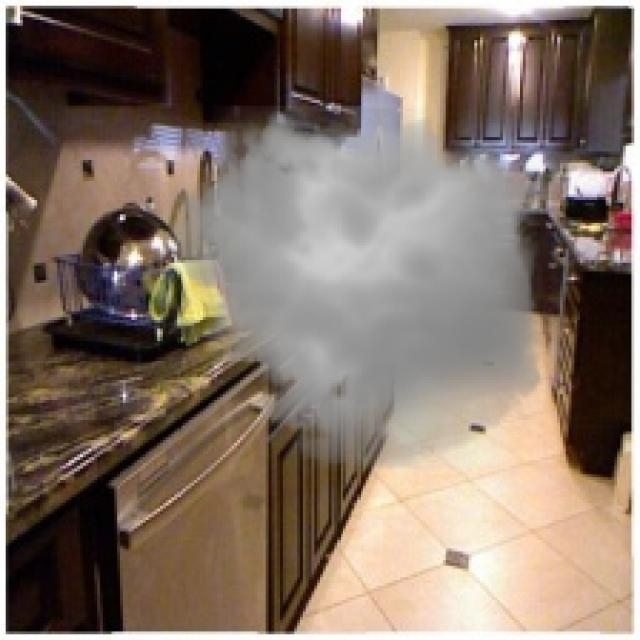smoke: (157, 88, 563, 483)
